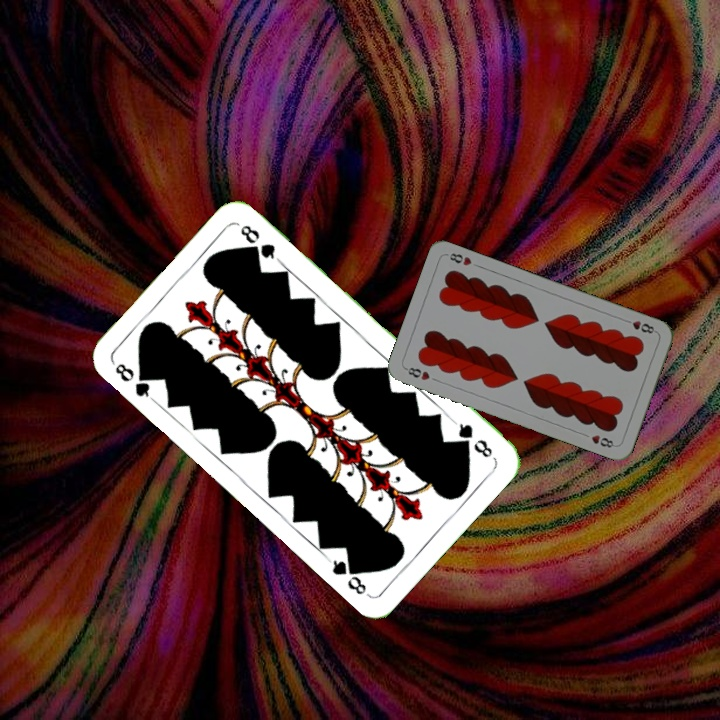G8: (109, 359, 157, 404), (449, 417, 495, 460)
H8: (620, 315, 659, 336), (401, 363, 433, 383)
